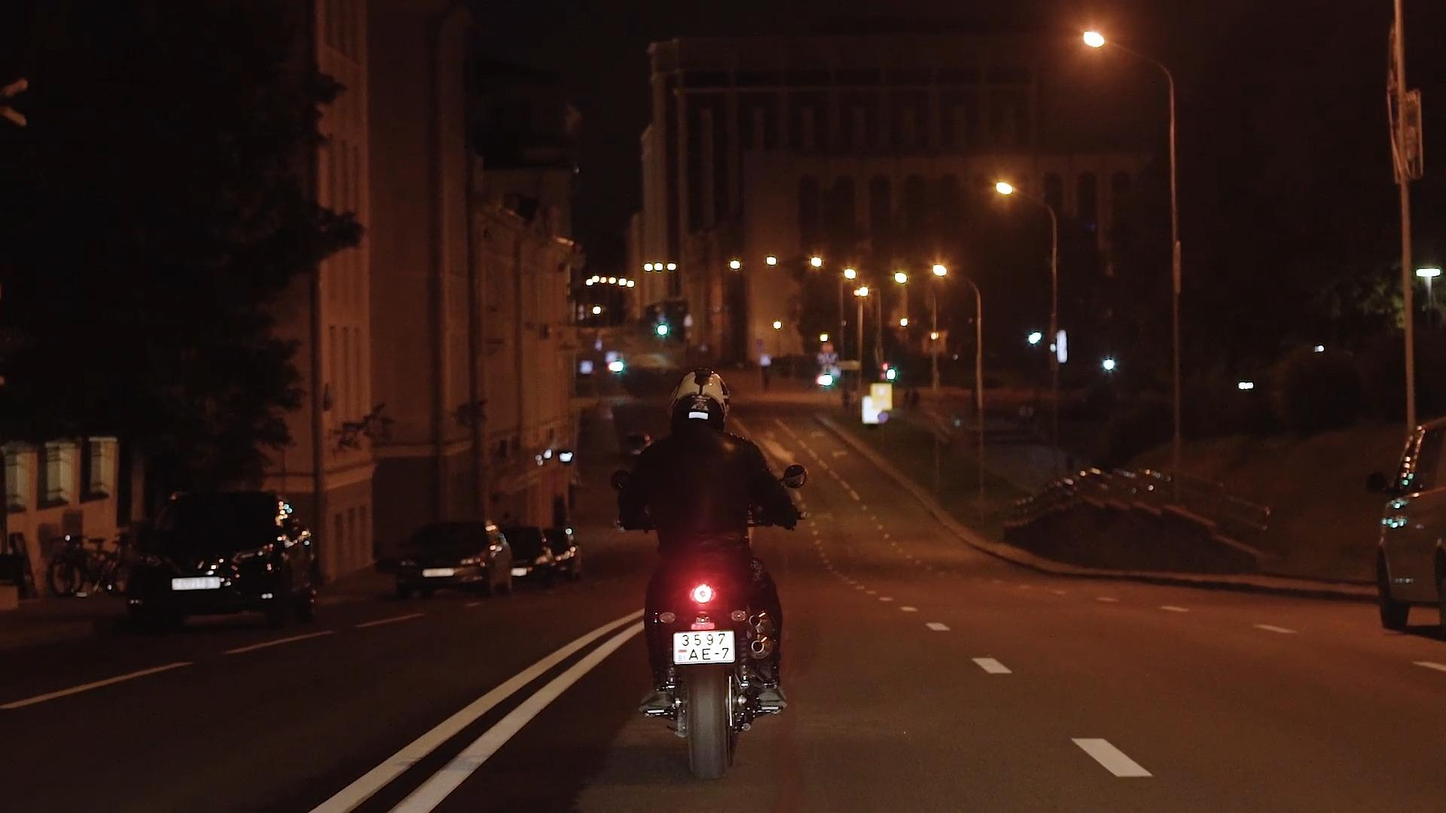driver: (611, 367, 808, 781)
helmet: (668, 368, 731, 433)
